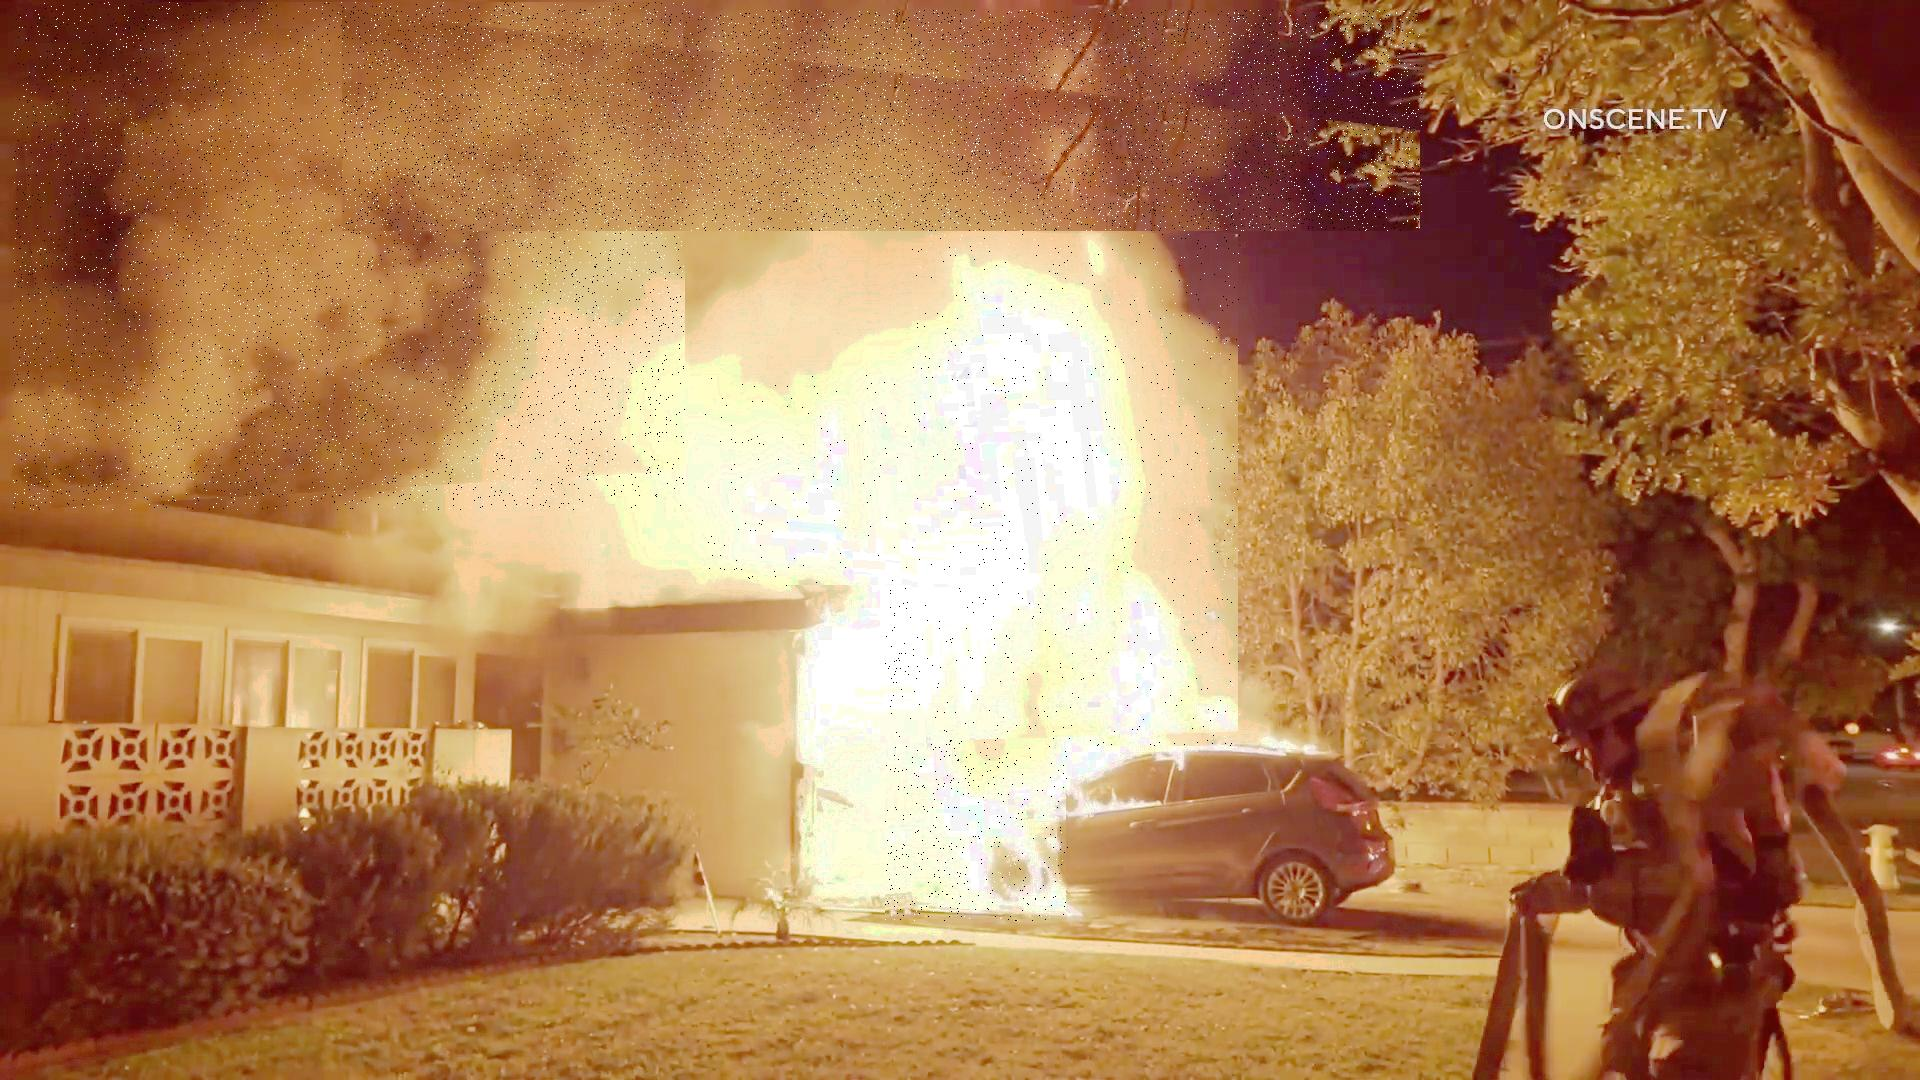fire: (913, 233, 1241, 740), (1035, 233, 1237, 746), (705, 376, 1183, 588), (886, 516, 1068, 922)
smoke: (13, 3, 686, 510), (343, 11, 1423, 231)
